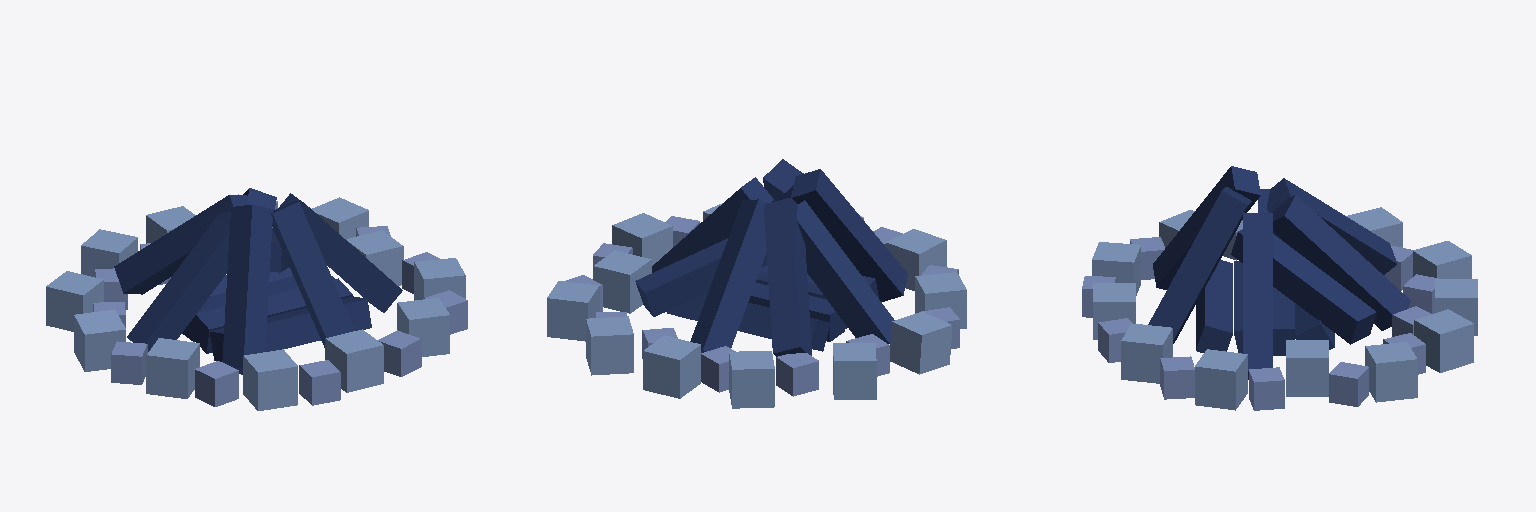
The picture shows the model from 3 angles: view 1: azimuth 30°, elevation 25°; view 2: azimuth 150°, elevation 25°; view 3: azimuth 270°, elevation 25°; orthographic projection.
Parts seen in each view (by area): view 1: 立方体.034_立方体.040; view 2: 立方体.034_立方体.040; view 3: 立方体.034_立方体.040.
Part boxes in pixels (bbox=[...]): 立方体.034_立方体.040: bbox=[46, 188, 467, 410]; 立方体.034_立方体.040: bbox=[547, 159, 966, 408]; 立方体.034_立方体.040: bbox=[1082, 166, 1477, 410].
Bounding box in the file's own units: 1.55 × 0.6367 × 1.5.
1 materials, 1 textured.